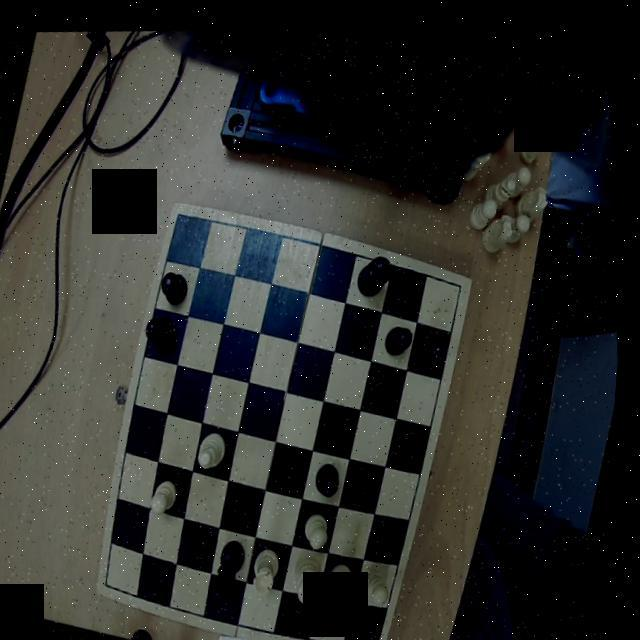chess-table-corners: (168, 198, 200, 232), (446, 261, 476, 292), (105, 569, 132, 598), (372, 620, 398, 640)
